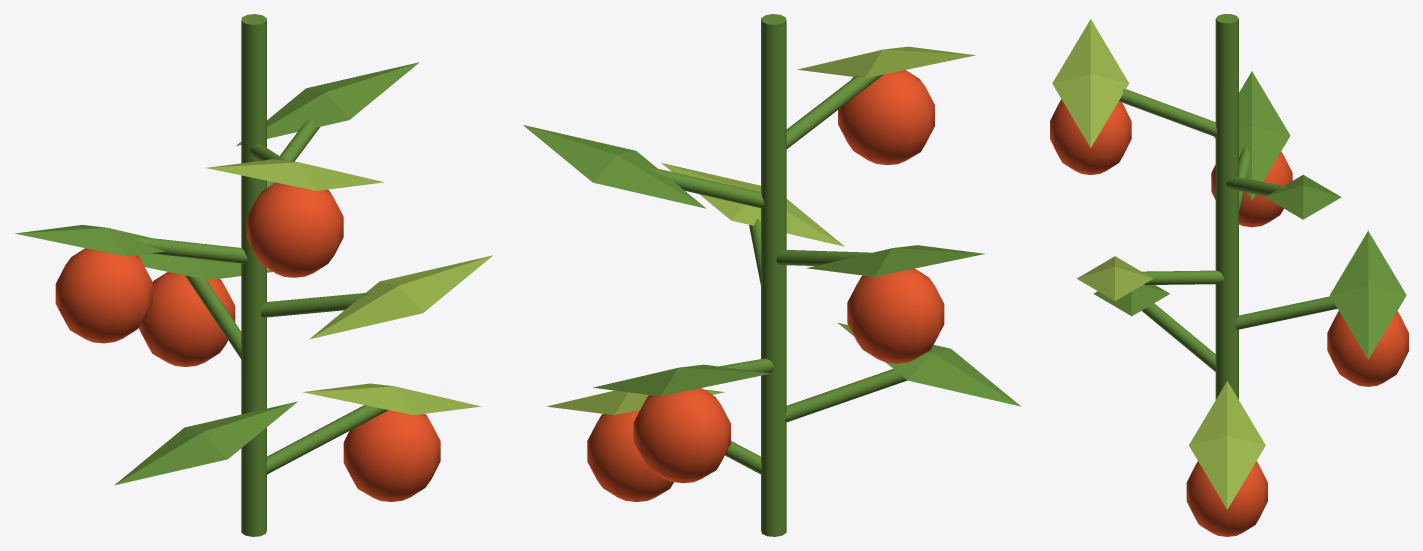
The model's file is crop.glb.
3 renders of one model, left to right at view 1: azimuth 30°, elevation 25°; view 2: azimuth 150°, elevation 25°; view 3: azimuth 270°, elevation 25°, orthographic. The views are drawn at different scales.
Visible parts, largest first — view 1: crop__leaf, crop__fruit, crop__leafLight; view 2: crop__leaf, crop__fruit, crop__leafLight; view 3: crop__leaf, crop__fruit, crop__leafLight.
Boxes of the visible parts, x1=… form: crop__leaf: x1=15, y1=14, x2=419, y2=536; crop__fruit: x1=55, y1=182, x2=440, y2=501; crop__leafLight: x1=206, y1=159, x2=492, y2=415; crop__leaf: x1=523, y1=14, x2=1020, y2=536; crop__fruit: x1=587, y1=70, x2=944, y2=501; crop__leafLight: x1=546, y1=46, x2=975, y2=415; crop__leaf: x1=1093, y1=14, x2=1406, y2=399; crop__fruit: x1=1050, y1=99, x2=1408, y2=536; crop__leafLight: x1=1052, y1=19, x2=1265, y2=509.
Size of the model in its own units: 0.7232 by 0.78 by 0.5583.
